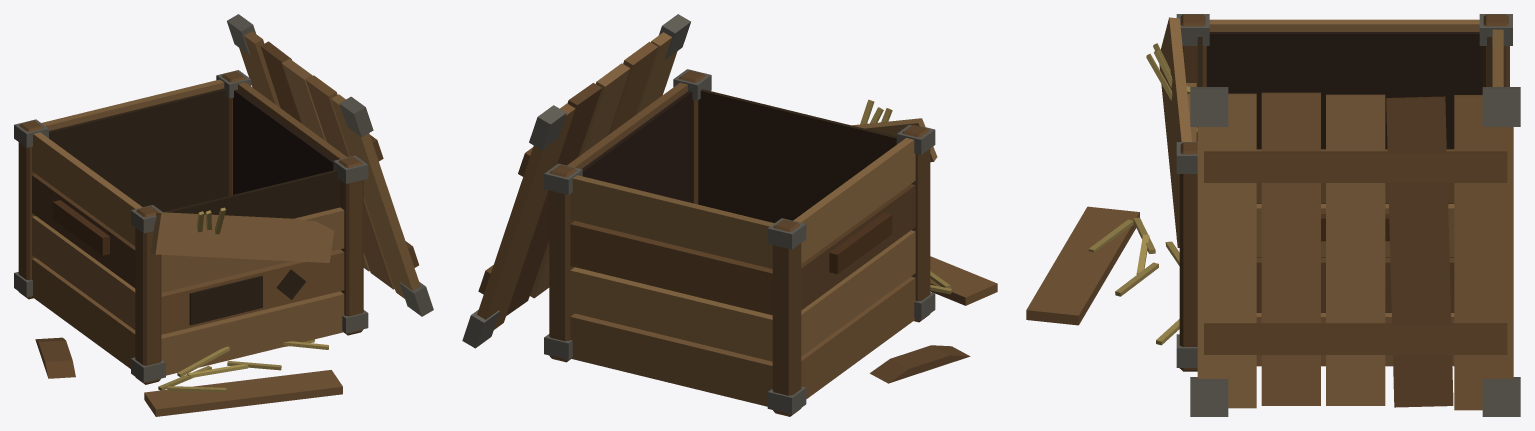
The model's file is caixa_aberta.glb.
3 views of the same model, side by side, from view 1: azimuth 30°, elevation 25°; view 2: azimuth 150°, elevation 25°; view 3: azimuth 270°, elevation 25° (orthographic). The views are drawn at different scales.
Parts seen in each view (by area): view 1: caixa_aberta.001; view 2: caixa_aberta.001; view 3: caixa_aberta.001.
Part boxes in pixels (left/top/right/bottom): caixa_aberta.001: left=14, top=14, right=433, bottom=416; caixa_aberta.001: left=462, top=14, right=997, bottom=416; caixa_aberta.001: left=1026, top=14, right=1520, bottom=416.
Bounding box in the file's own units: 1.49 × 0.8863 × 1.37.
